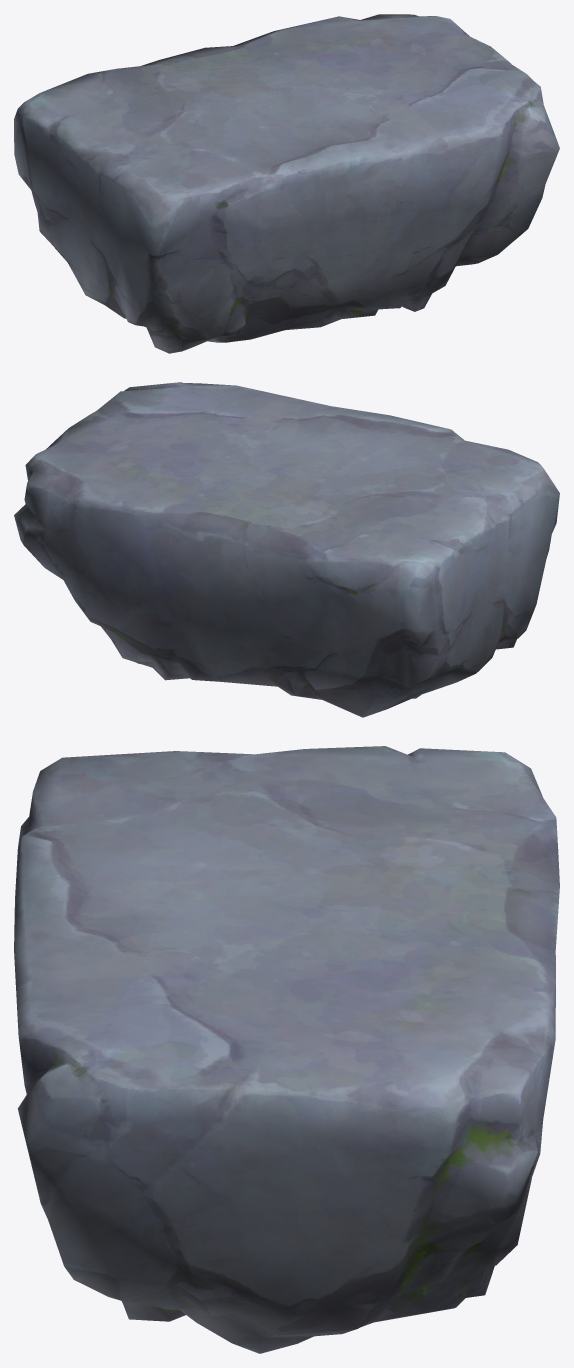
The model's file is Homeworld_Exterior_Ly_Rockery_Stone_Stairs_01_Vo.fbx.
3 renders of one model, top to bottom at view 1: azimuth 30°, elevation 25°; view 2: azimuth 150°, elevation 25°; view 3: azimuth 270°, elevation 25°, orthographic. The views are drawn at different scales.
Parts seen in each view (by area): view 1: Homeworld_Exterior_Ly_Rockery_Stone_Stairs_01_Vo; view 2: Homeworld_Exterior_Ly_Rockery_Stone_Stairs_01_Vo; view 3: Homeworld_Exterior_Ly_Rockery_Stone_Stairs_01_Vo.
Part boxes in pixels (x1=…): Homeworld_Exterior_Ly_Rockery_Stone_Stairs_01_Vo: x1=14, y1=14, x2=559, y2=353; Homeworld_Exterior_Ly_Rockery_Stone_Stairs_01_Vo: x1=14, y1=382, x2=559, y2=717; Homeworld_Exterior_Ly_Rockery_Stone_Stairs_01_Vo: x1=14, y1=746, x2=559, y2=1353.
Size of the model in its own units: 3.07 by 1.43 by 2.02.
1 material, 1 textured.
